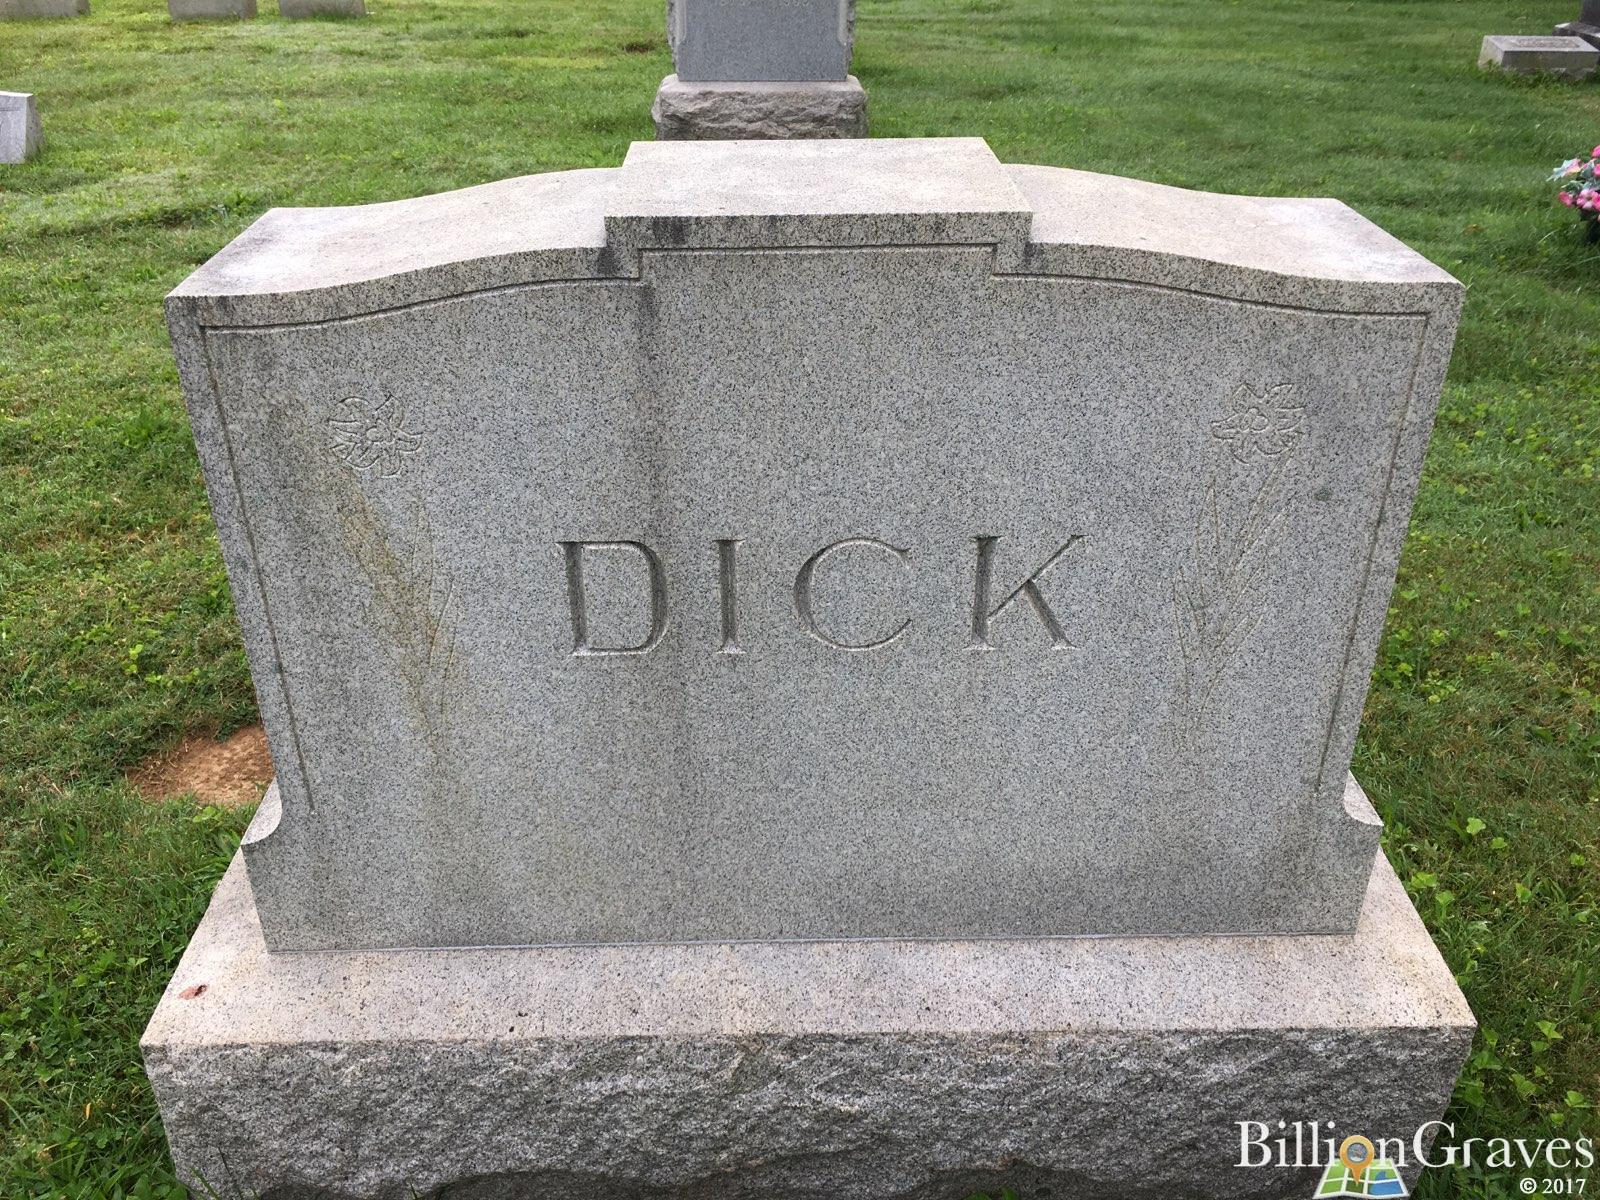upright: (125, 113, 1504, 1116)
